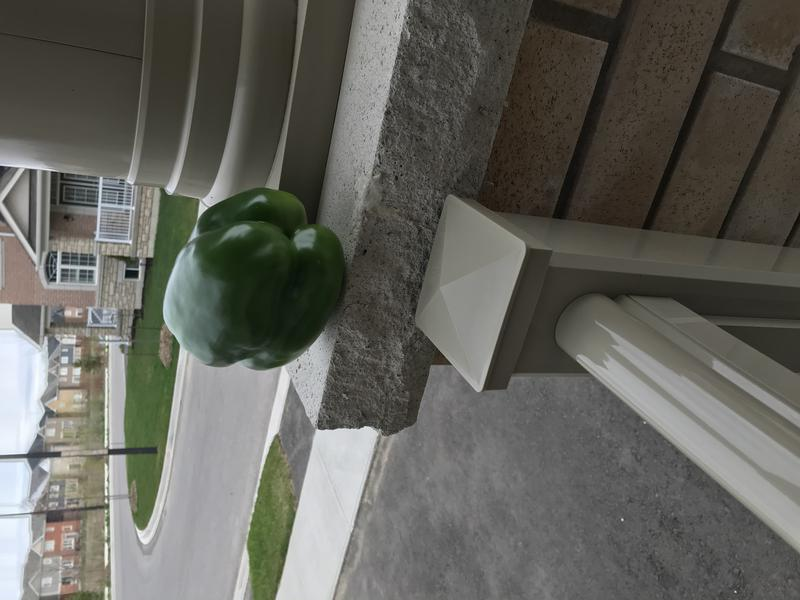green_pepper: (156, 179, 354, 383)
